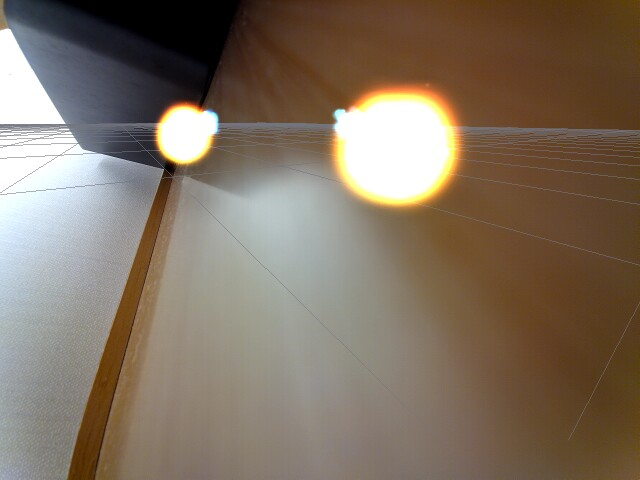firebig: (324, 67, 467, 217)
